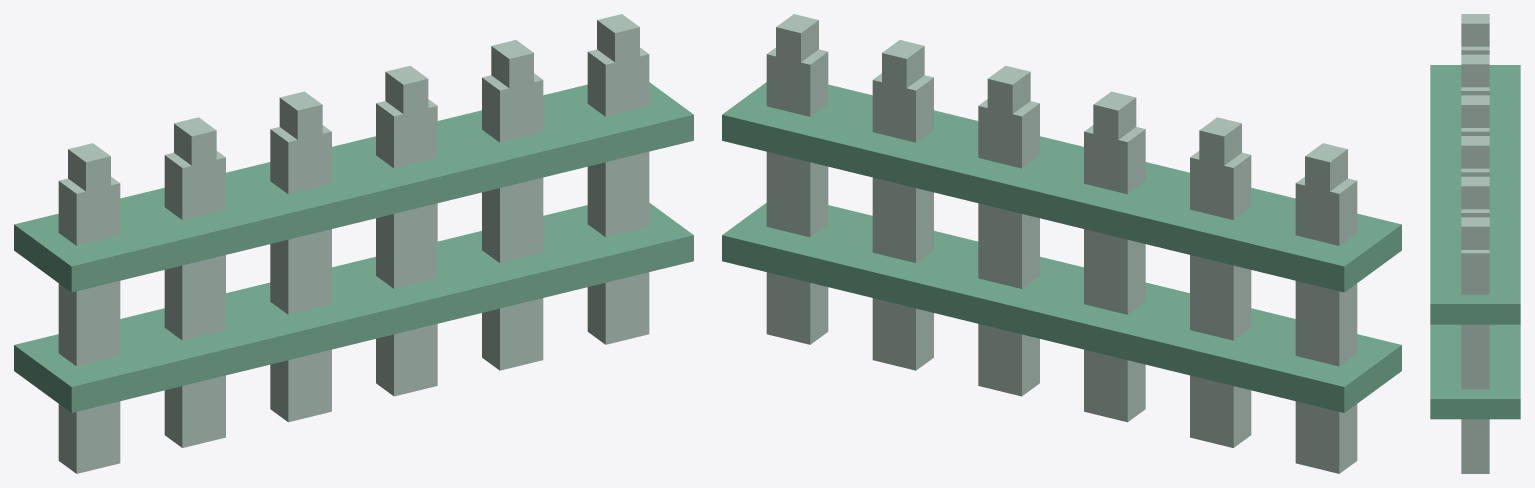
File: ncb-picket-mint.glb
The picture shows the model from 3 angles, left to right: view 1: azimuth 30°, elevation 25°; view 2: azimuth 150°, elevation 25°; view 3: azimuth 270°, elevation 25°; orthographic projection. The views are drawn at different scales.
Parts seen in each view (by area): view 1: box-prop; view 2: box-prop; view 3: box-prop.
Boxes of the visible parts, x1,y1,x2,y2 form: box-prop: (14, 14, 693, 473); box-prop: (722, 14, 1401, 473); box-prop: (1430, 14, 1520, 473).
Size of the model in its own units: 2 by 0.95 by 0.32.
